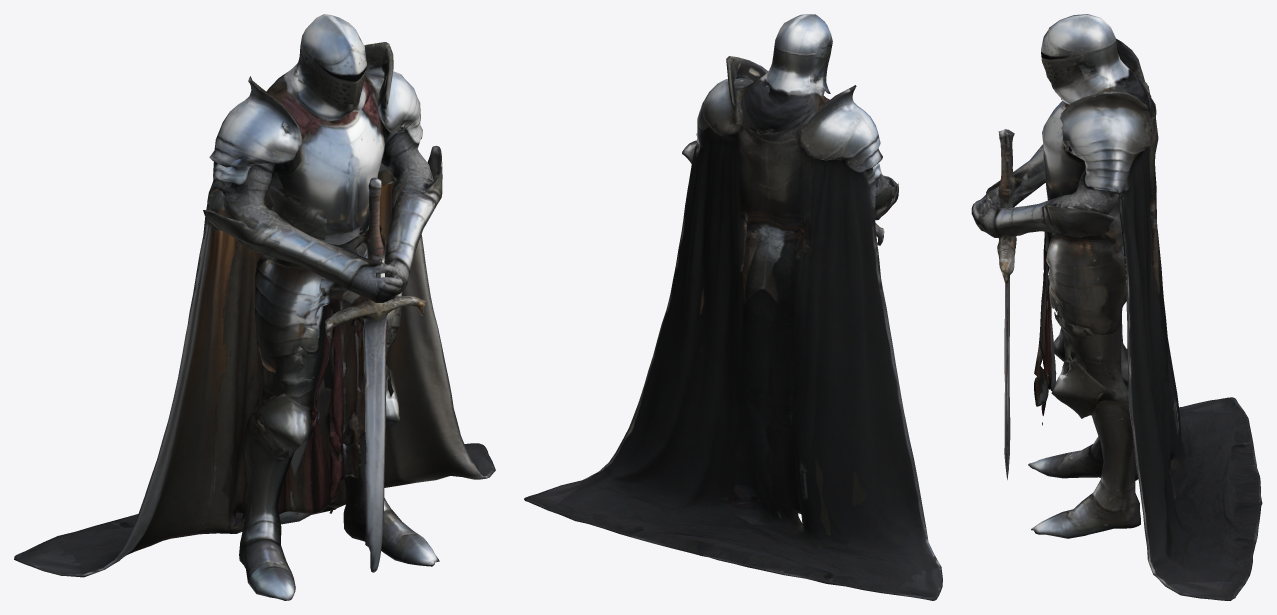
File: guardian_knight.glb
The picture shows the model from 3 angles, left to right: view 1: azimuth 30°, elevation 25°; view 2: azimuth 150°, elevation 25°; view 3: azimuth 270°, elevation 25°; orthographic projection. The views are drawn at different scales.
Visible parts, largest first — view 1: Mesh_0.009_Material.001_0; view 2: Mesh_0.009_Material.001_0; view 3: Mesh_0.009_Material.001_0.
Part boxes in pixels (x1=…): Mesh_0.009_Material.001_0: x1=14, y1=14, x2=495, y2=600; Mesh_0.009_Material.001_0: x1=524, y1=14, x2=942, y2=600; Mesh_0.009_Material.001_0: x1=971, y1=14, x2=1262, y2=600.
Bounding box in the file's own units: 1.78 × 1.99 × 1.08.
1 material, 1 textured.
